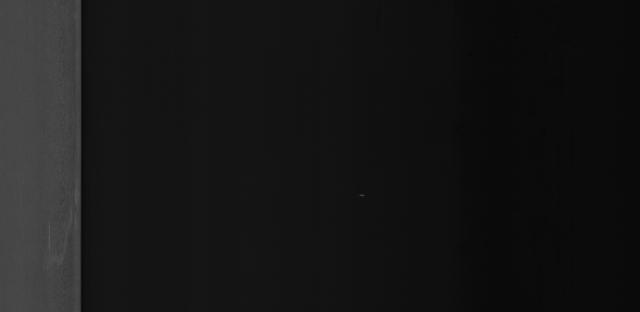silk_spot: (36, 171, 74, 276)
